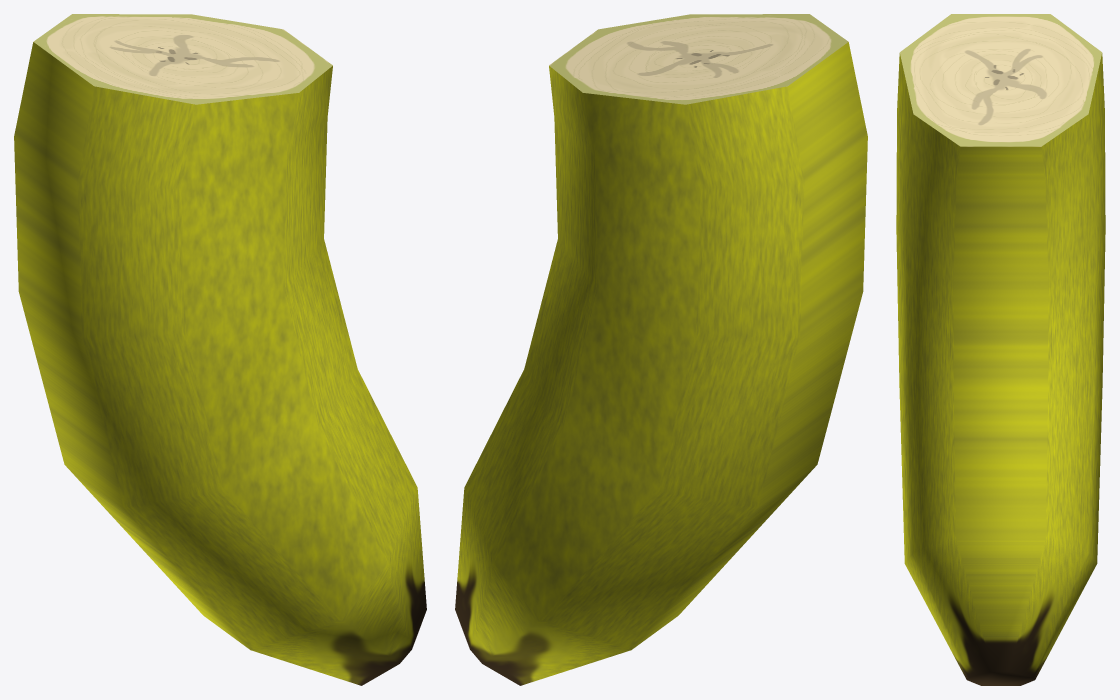
Rendered from Platano-1_1Abajo.obj.
3 views of the same model, side by side, from view 1: azimuth 30°, elevation 25°; view 2: azimuth 150°, elevation 25°; view 3: azimuth 270°, elevation 25° (orthographic). The views are drawn at different scales.
Parts seen in each view (by area): view 1: Platano-1_2Abajo_Cube.002; view 2: Platano-1_2Abajo_Cube.002; view 3: Platano-1_2Abajo_Cube.002.
Boxes of the visible parts, x1,y1,x2,y2 form: Platano-1_2Abajo_Cube.002: (14,14,426,685); Platano-1_2Abajo_Cube.002: (455,14,867,685); Platano-1_2Abajo_Cube.002: (896,14,1105,685).
Bounding box in the file's own units: 1.5 × 2.6 × 0.885.
1 material, 1 textured.
